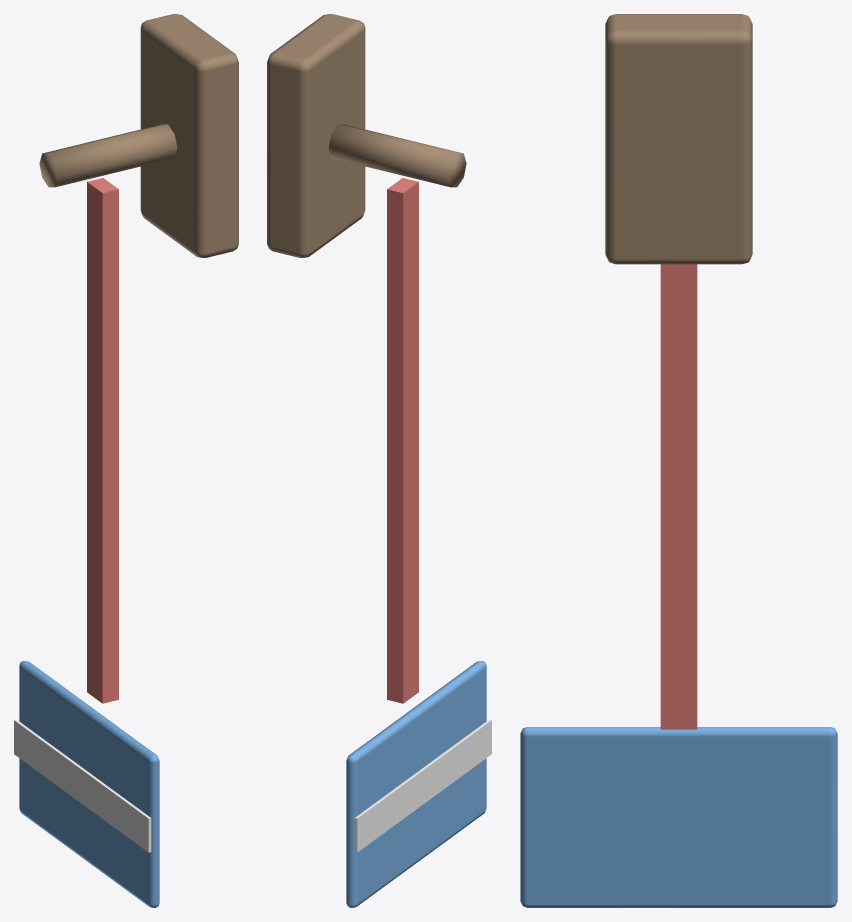
File: escena.casa.tarjeta_transporte.fbx
3 renders of one model, left to right at view 1: azimuth 30°, elevation 25°; view 2: azimuth 150°, elevation 25°; view 3: azimuth 270°, elevation 25°, orthographic. The views are drawn at different scales.
Visible parts, largest first — view 1: Placa del gancho, Tarjeta, Cordon, Franja, Gancho; view 2: Placa del gancho, Tarjeta, Cordon, Franja, Gancho; view 3: Tarjeta, Placa del gancho, Cordon.
Boxes of the visible parts, x1,y1,x2,y2 form: Placa del gancho: [140, 14, 238, 257]; Tarjeta: [19, 661, 159, 907]; Cordon: [87, 178, 118, 703]; Franja: [14, 719, 151, 852]; Gancho: [39, 124, 177, 187]; Placa del gancho: [267, 14, 365, 257]; Tarjeta: [346, 661, 486, 907]; Cordon: [387, 178, 418, 703]; Franja: [354, 719, 491, 852]; Gancho: [328, 124, 466, 187]; Tarjeta: [520, 727, 837, 907]; Placa del gancho: [605, 14, 752, 264]; Cordon: [660, 264, 697, 729].
Bounding box in the file's own units: 0.06 × 0.282 × 0.086.
